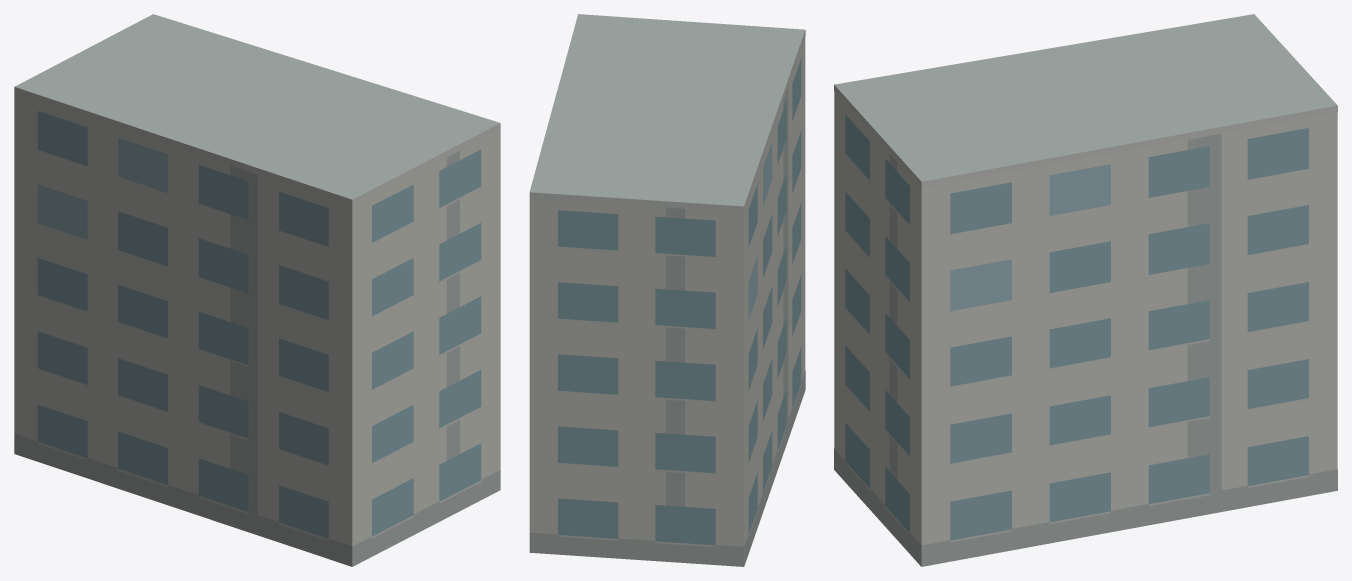
The model's file is survey-upis-32851294.glb.
The picture shows the model from 3 angles, left to right: view 1: azimuth 30°, elevation 25°; view 2: azimuth 150°, elevation 25°; view 3: azimuth 270°, elevation 25°; orthographic projection. The views are drawn at different scales.
Parts seen in each view (by area): view 1: survey-upis-32851294.tmp; view 2: survey-upis-32851294.tmp; view 3: survey-upis-32851294.tmp.
Part boxes in pixels (<box>): survey-upis-32851294.tmp: <box>14,14,500,566</box>; survey-upis-32851294.tmp: <box>529,14,805,566</box>; survey-upis-32851294.tmp: <box>834,14,1337,566</box>.
Bounding box in the file's own units: 12.8 × 13.7 × 16.25.
